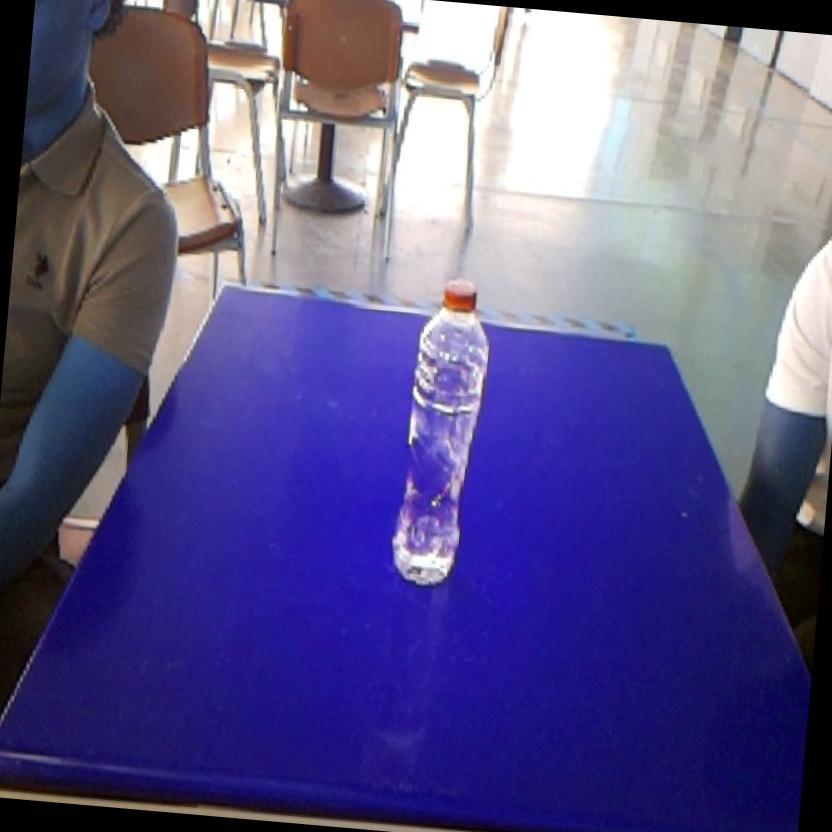no_label: (379, 260, 502, 598)
